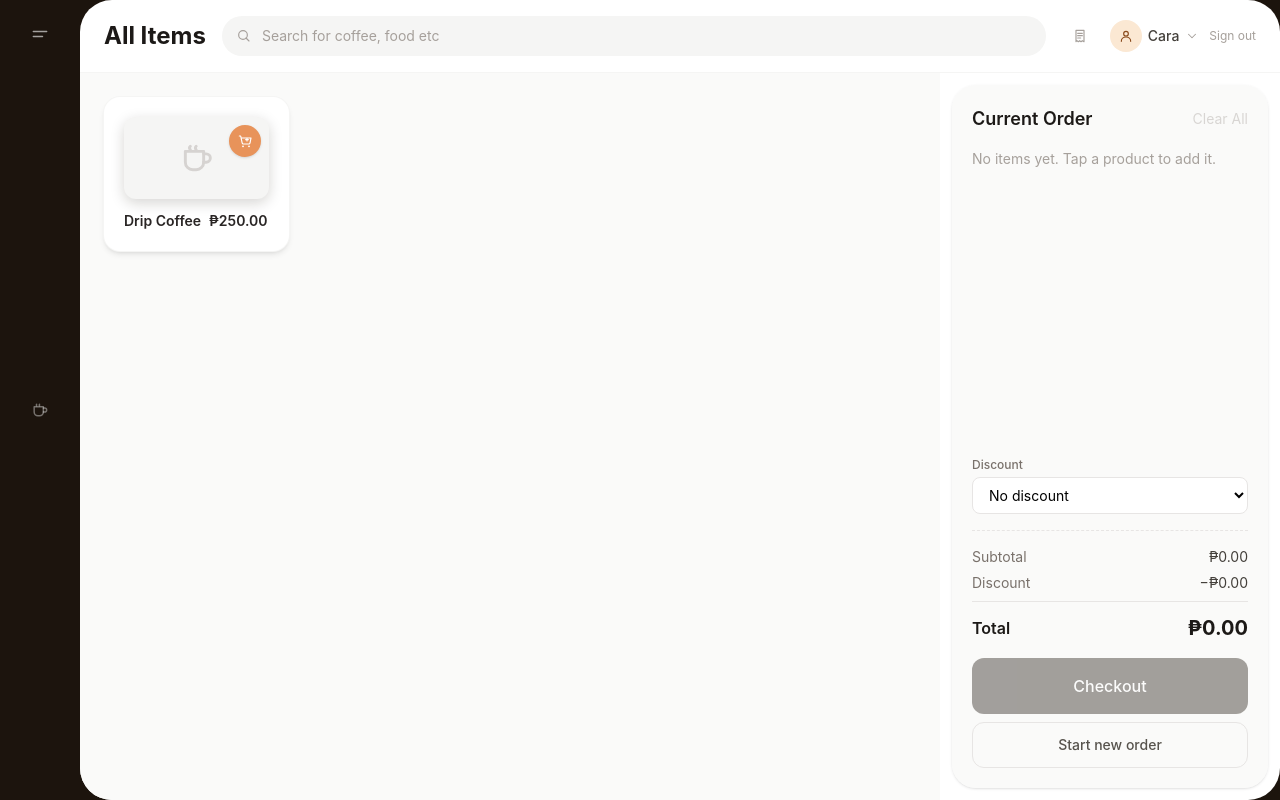
POS — full checkout flow › walks Login-authenticated cashier through add product -> cart -> checkout -> payment -> success -> new order
This screenshot has width=1280, height=800.
Note: Add to cart
Click the button "Drip Coffee ₱250.00" at (196, 174), box [104, 97, 289, 251]
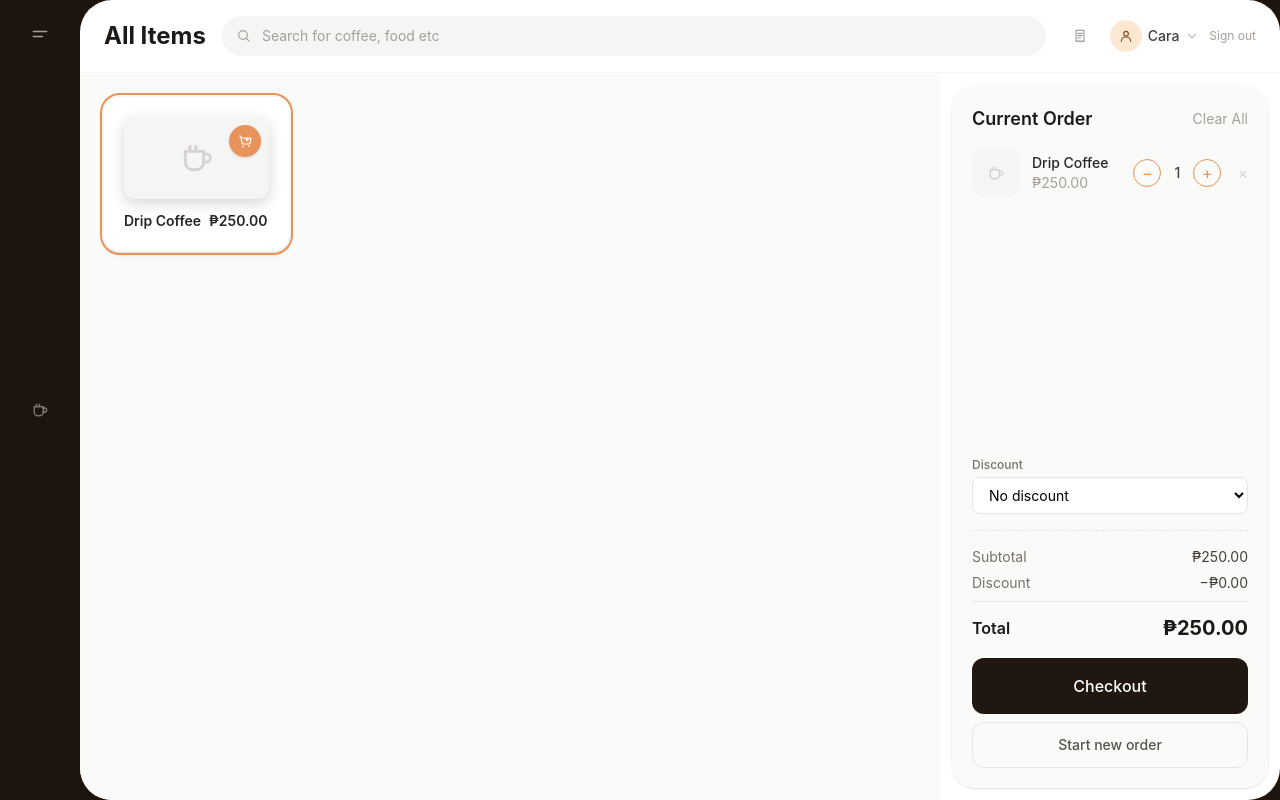
Result: the text "Drip Coffee" below "Current Order" is shown at [1032, 154, 1108, 171]
Note: Go to checkout
Click the button "Checkout" at (1110, 686), box [972, 658, 1248, 714]
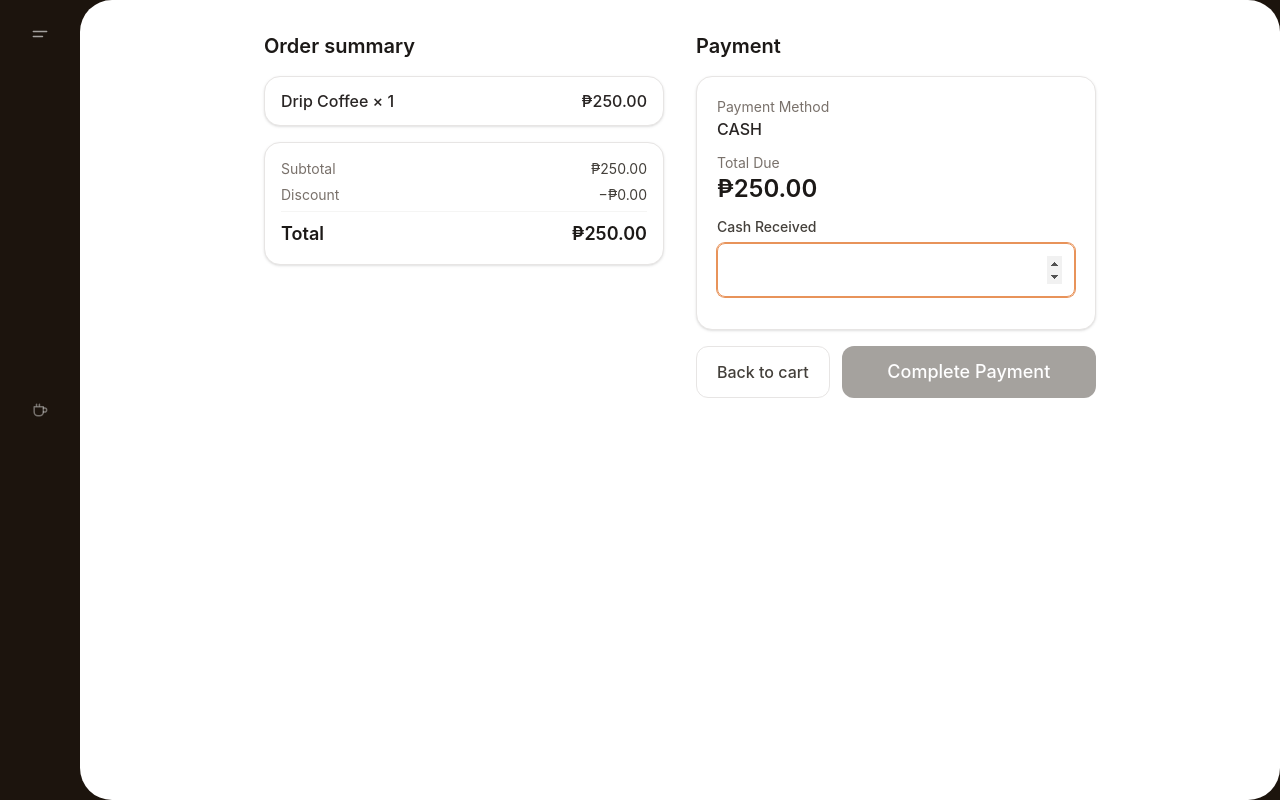
Result: the heading "Order summary" is shown at [264, 34, 415, 58]
Note: Insufficient cash first — button must stay disabled
Type "100" into the number field labelled "Cash Received" at (896, 270), box [717, 243, 1075, 297]
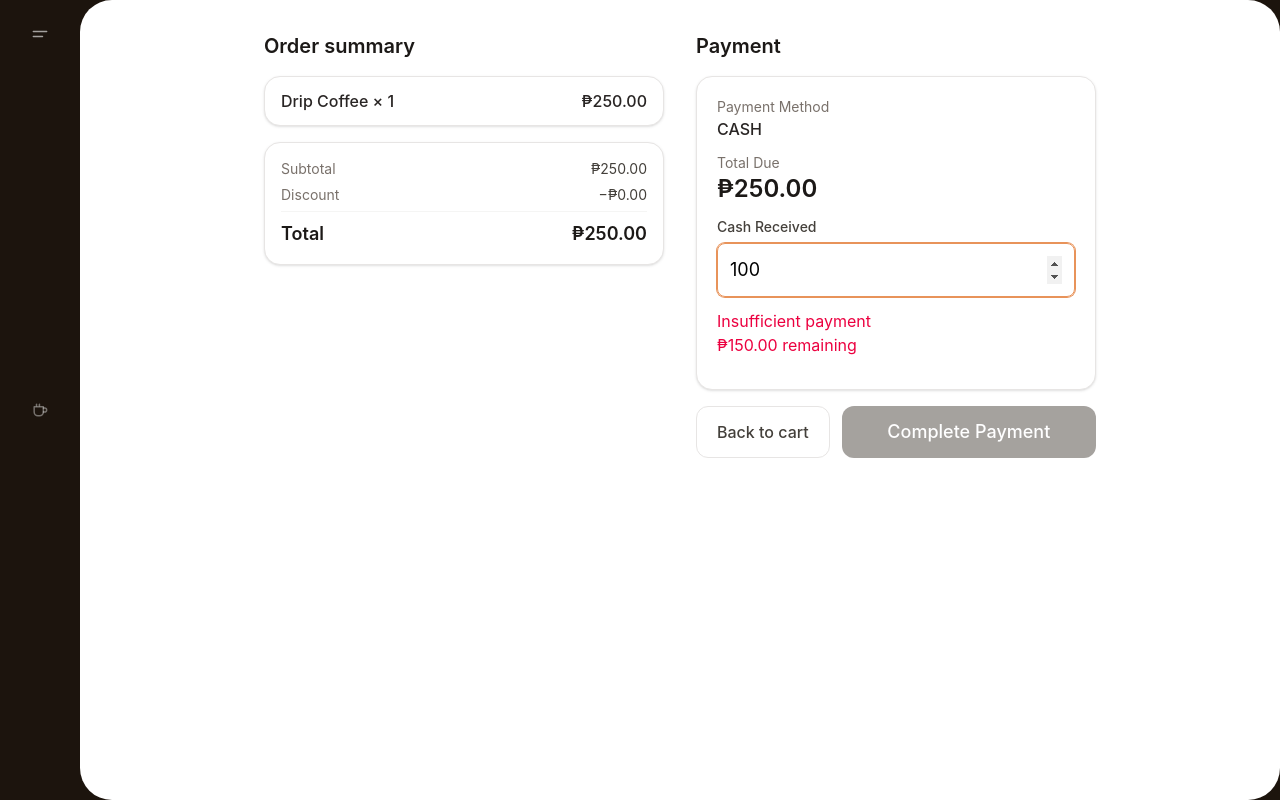
Result: the button "Complete Payment" is disabled at [842, 406, 1096, 458]
Note: Correct the amount to a sufficient one
Replace the text in the number field labelled "Cash Received" with "300" at (896, 270), box [717, 243, 1075, 297]
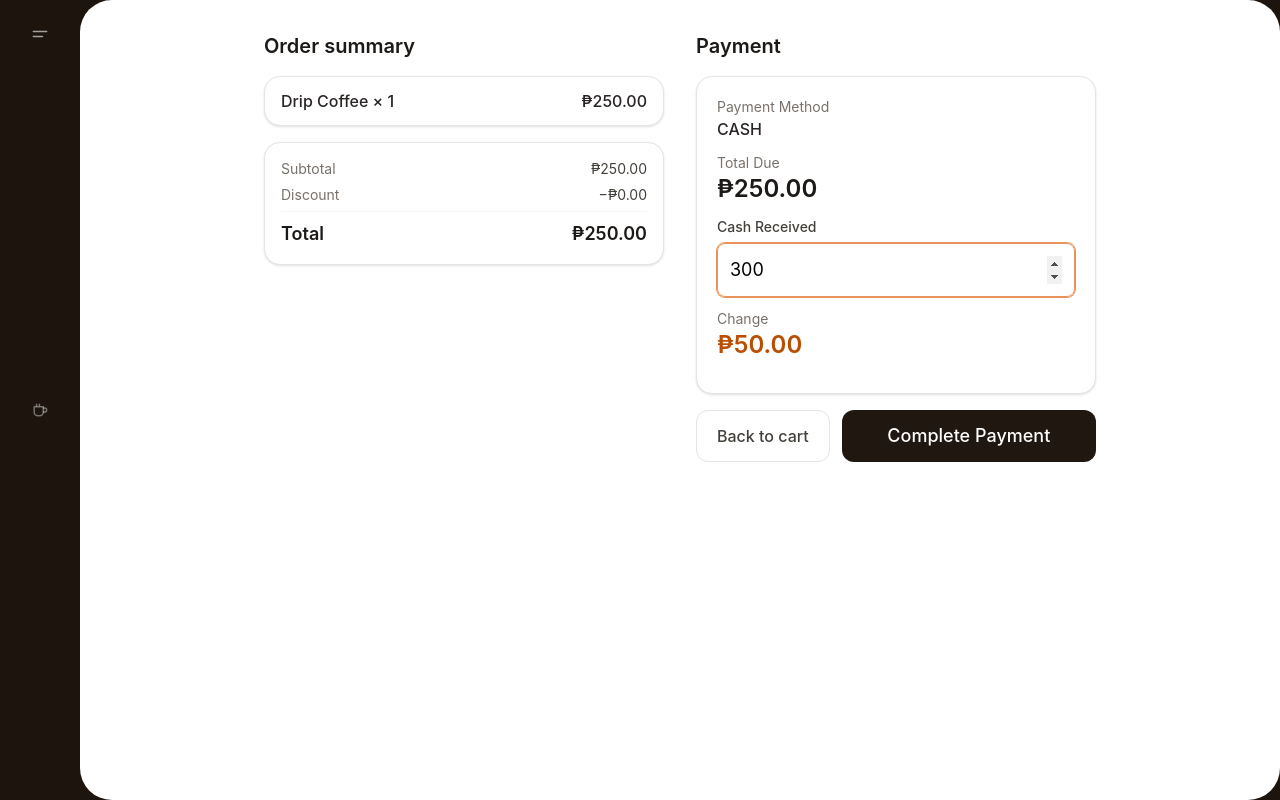
Result: the button "Complete Payment" is enabled
Click the button "Complete Payment" at (969, 436), box [842, 410, 1096, 462]
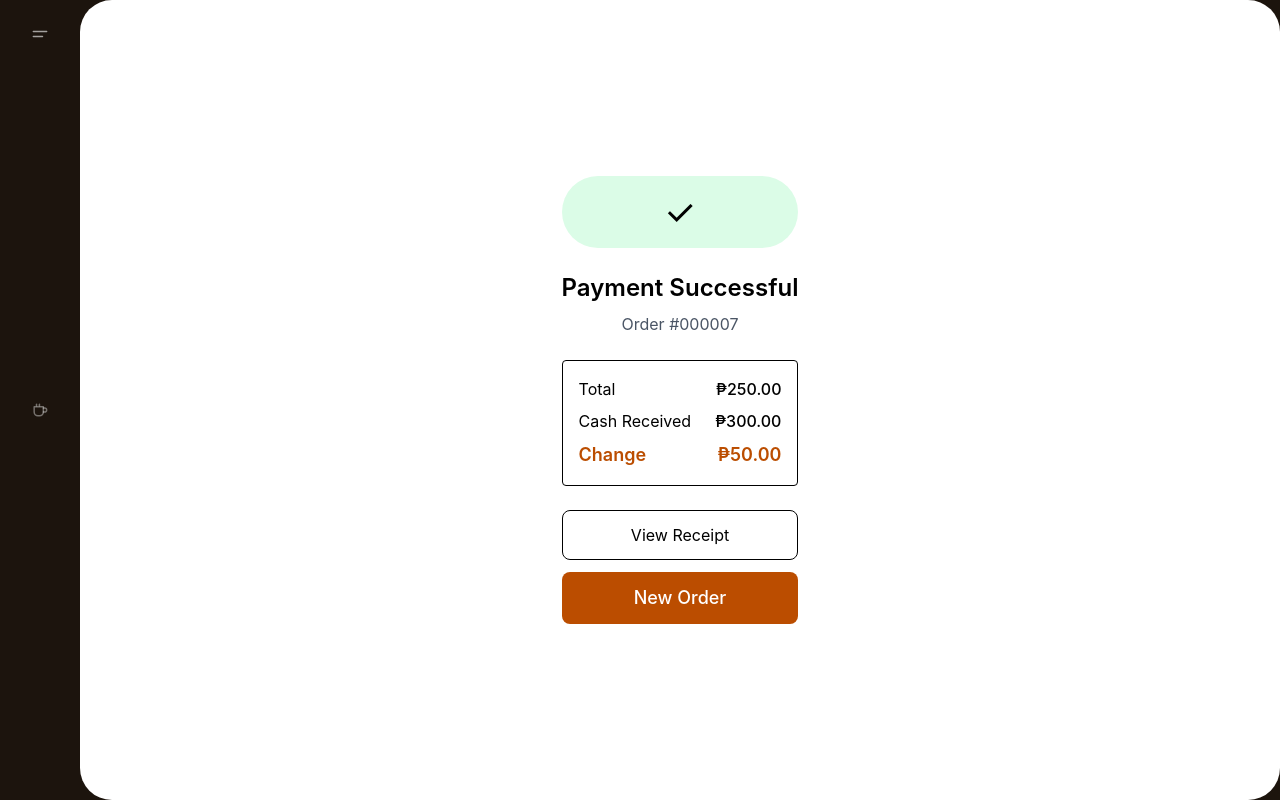
Result: the heading "Payment Successful" is shown at [562, 272, 798, 304]
Result: the text "Order #000007" is shown at [622, 314, 738, 334]
Note: New order returns to the shopping view with an empty cart
Click the button "New Order" at (680, 598), box [562, 572, 798, 624]
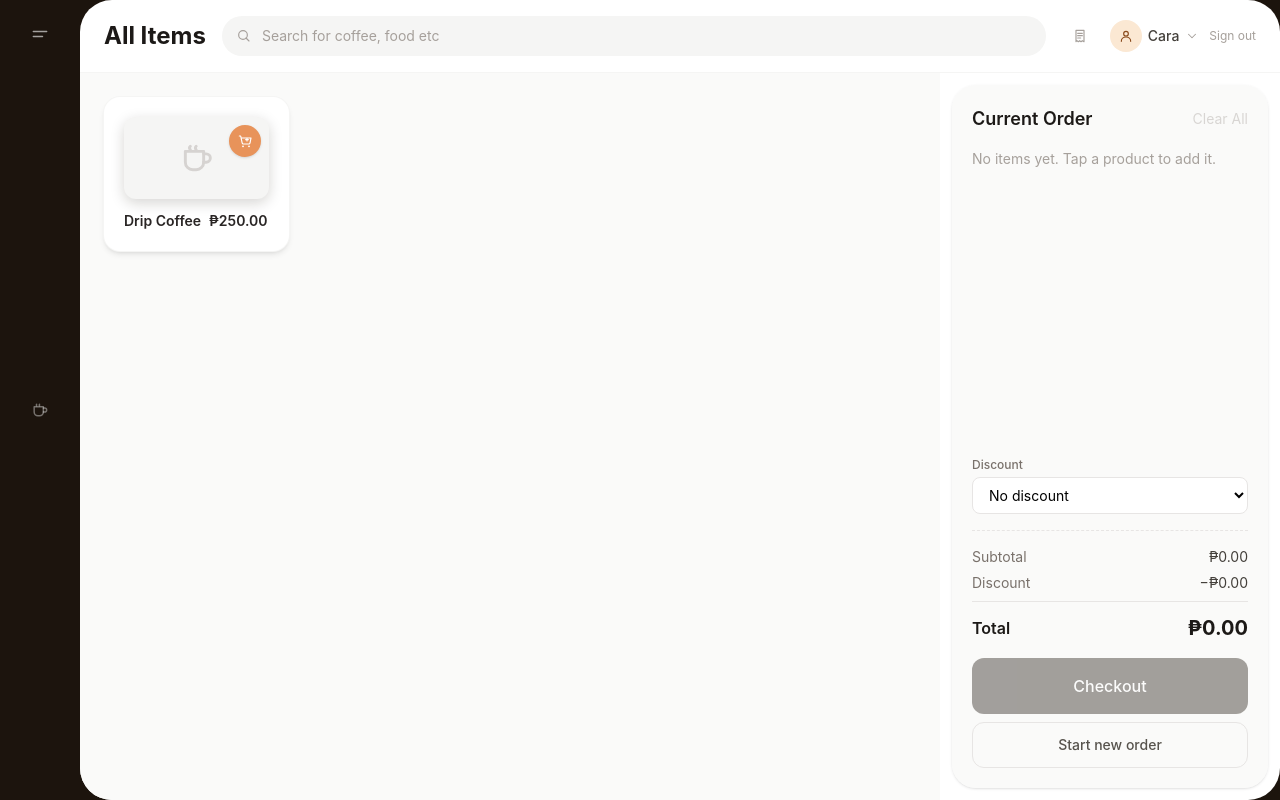
Result: the text "Drip Coffee" is shown at [124, 211, 201, 231]
Result: the text "No items yet. Tap a product to add it." is shown at [972, 150, 1216, 167]
